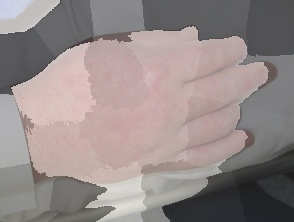SJS-TEN: (1, 0, 289, 210)
